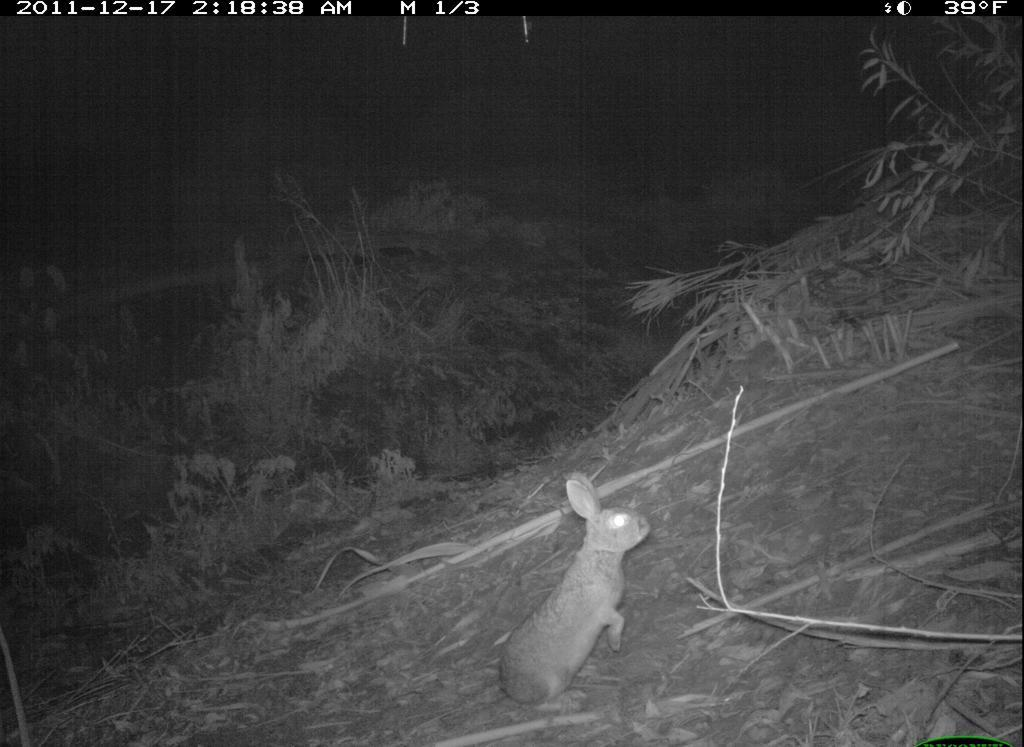rabbit: (491, 472, 655, 710)
